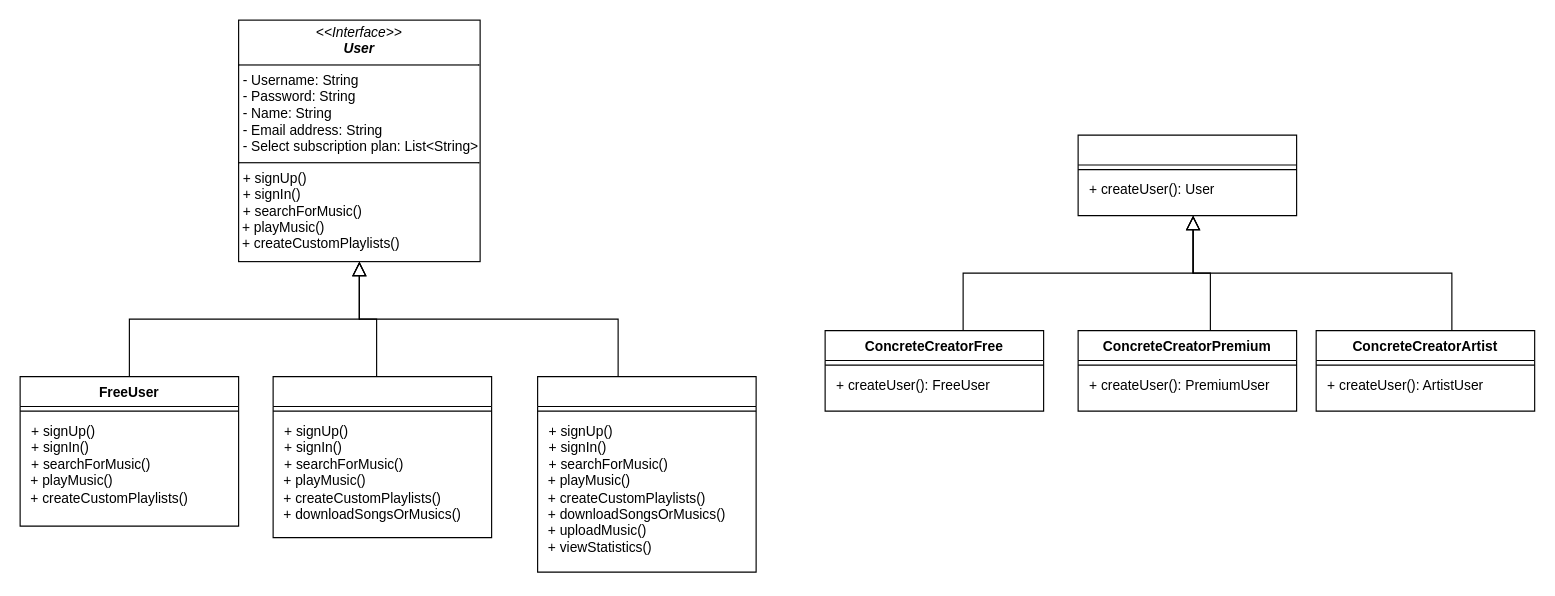
This 1555x596 diagram has some shape labels left out. Each missing label, with the box of its shape:
ArtistUser: (536, 375, 756, 572)
Creator: (1077, 134, 1297, 216)
PremiumUser: (272, 375, 492, 538)
